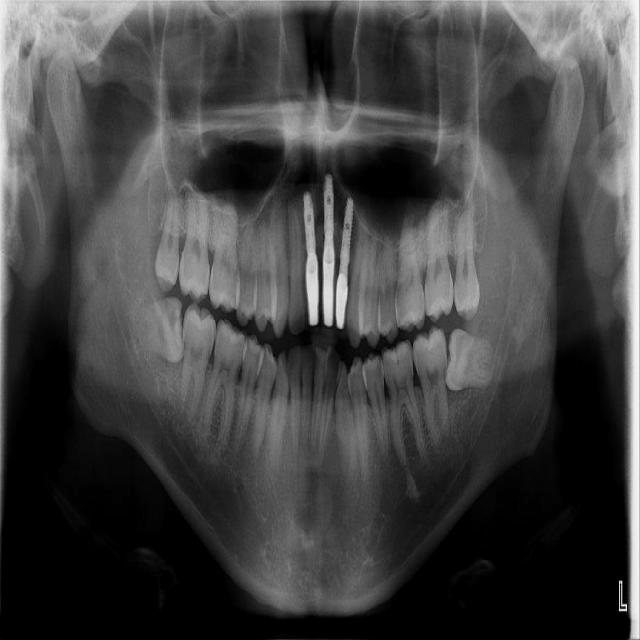Crown: (304, 255, 318, 326), (322, 264, 334, 325), (336, 274, 347, 328)
Implant: (323, 169, 334, 264), (340, 197, 352, 277), (304, 192, 316, 258)
impacted tooth: (122, 297, 181, 362), (444, 328, 499, 390)
